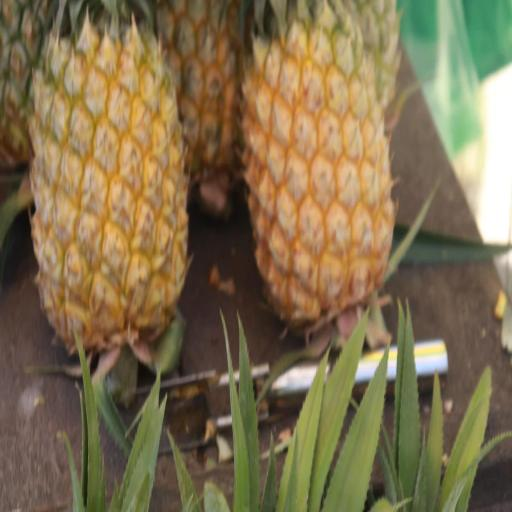Pineapple - v8 v1: (26, 0, 193, 392), (238, 0, 401, 338)
